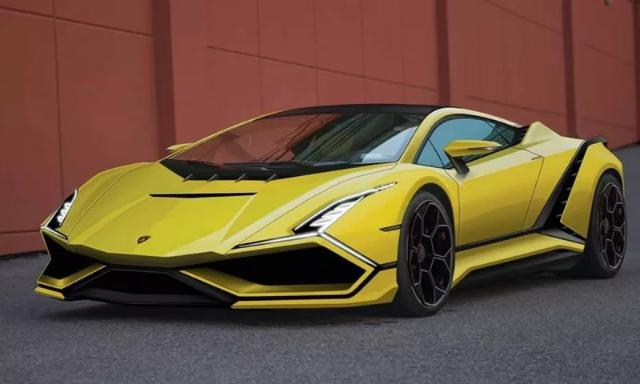lamborghini: (34, 104, 628, 316)
